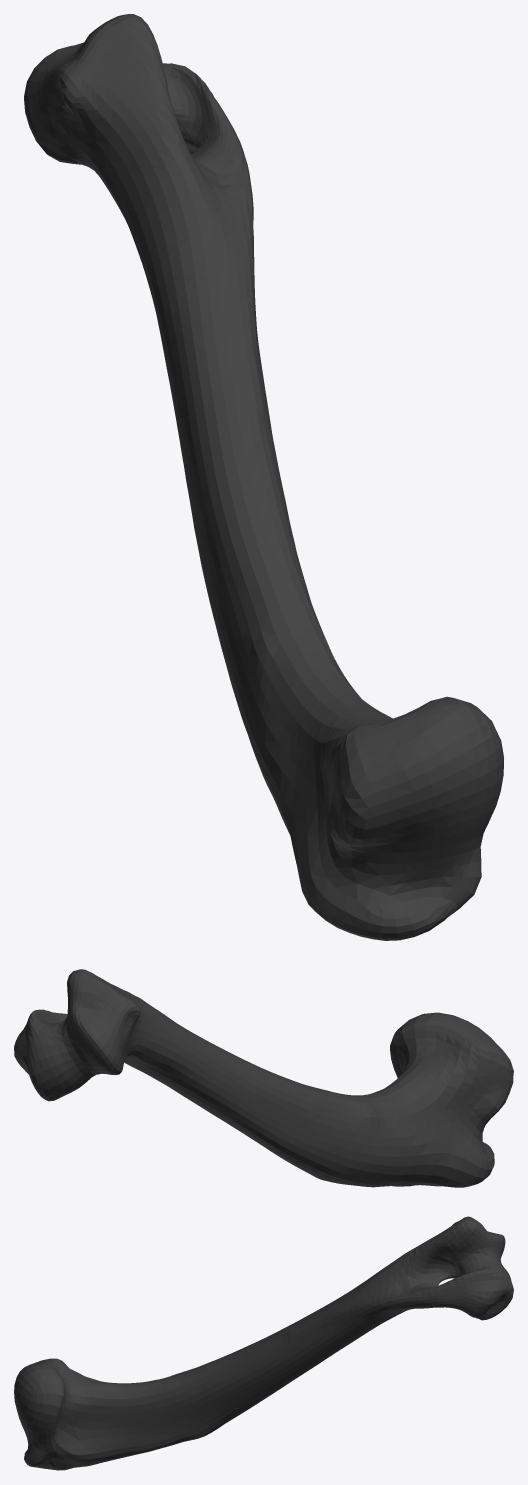
Rendered from Humerus.glb.
3 renders of one model, top to bottom at view 1: azimuth 30°, elevation 25°; view 2: azimuth 150°, elevation 25°; view 3: azimuth 270°, elevation 25°, orthographic. The views are drawn at different scales.
Parts seen in each view (by area): view 1: Humerus; view 2: Humerus; view 3: Humerus.
Boxes of the visible parts, x1,y1,x2,y2 form: Humerus: [24, 14, 503, 940]; Humerus: [14, 969, 513, 1187]; Humerus: [14, 1216, 513, 1470].
Bounding box in the file's own units: 0.7535 × 1.36 × 2.16.
1 material, 1 textured.
